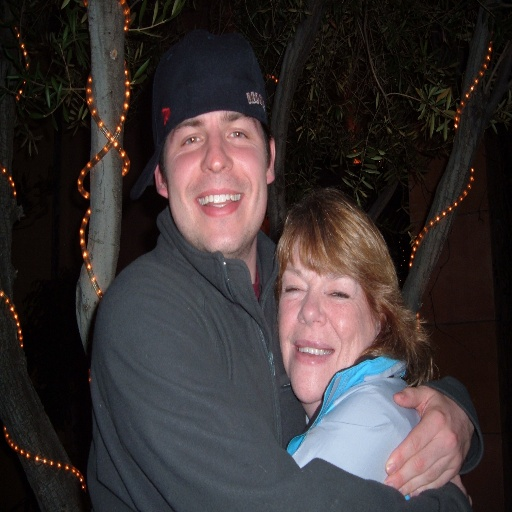hand: (381, 381, 490, 503), (448, 472, 476, 509)
